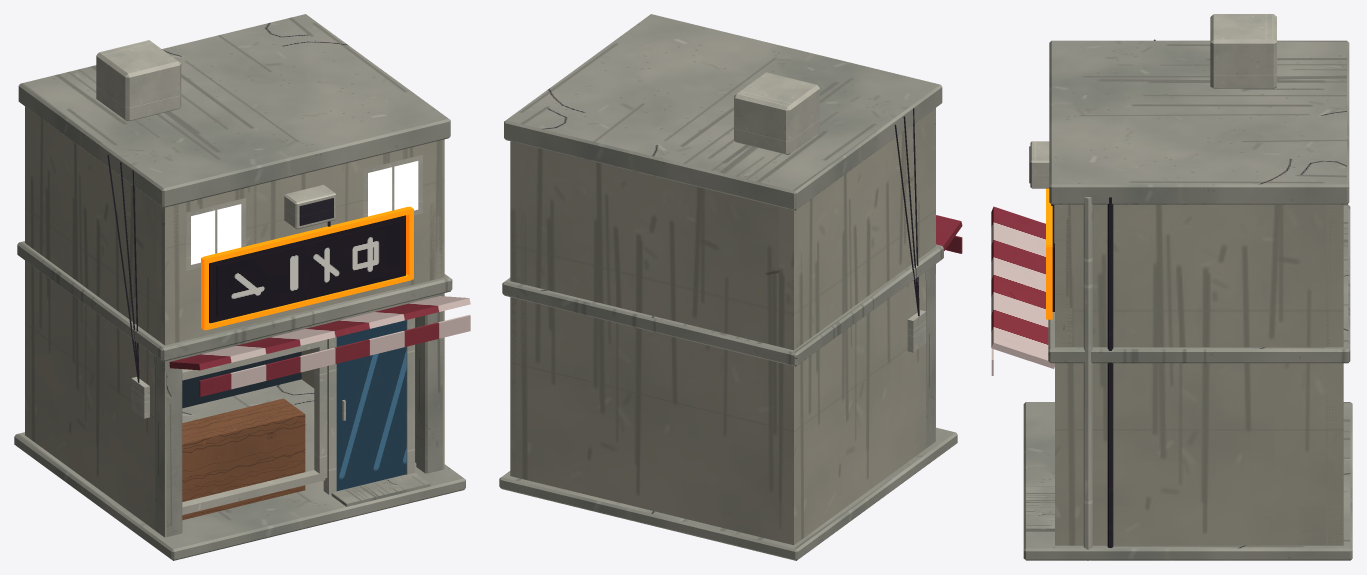
Rendered from servico.glb.
The picture shows the model from 3 angles, left to right: view 1: azimuth 30°, elevation 25°; view 2: azimuth 150°, elevation 25°; view 3: azimuth 270°, elevation 25°; orthographic projection. The views are drawn at different scales.
Parts seen in each view (by area): view 1: servico; view 2: servico; view 3: servico.
Boxes of the visible parts, x1,y1,x2,y2 form: servico: (14, 14, 470, 560); servico: (499, 14, 962, 560); servico: (991, 14, 1352, 560).
Bounding box in the file's own units: 3.18 × 4.2 × 3.25.
Materials: 4 (2 with a texture image).
